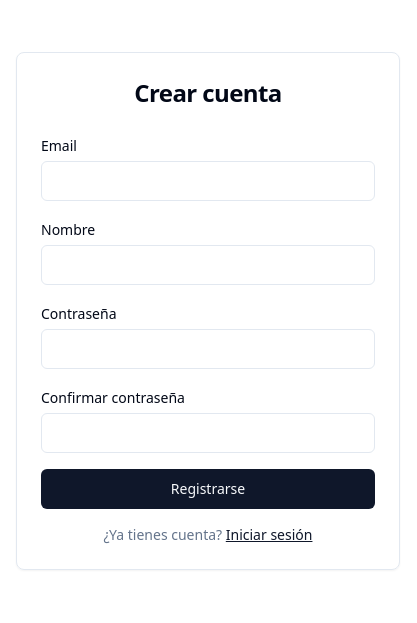
Test: RegisterPage — validación Zod › muestra error cuando el email es inválido
Type "no-email" into the field labelled "Email".
click(208, 181); type("no-email")  # box 41,161 -> 375,201
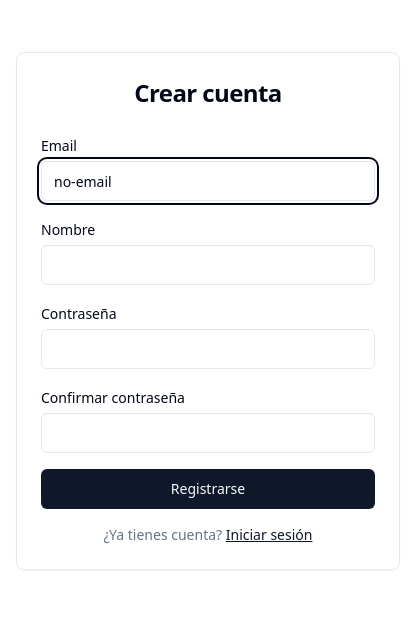
Click the button "Registrarse".
click(208, 489)  # box 41,469 -> 375,509
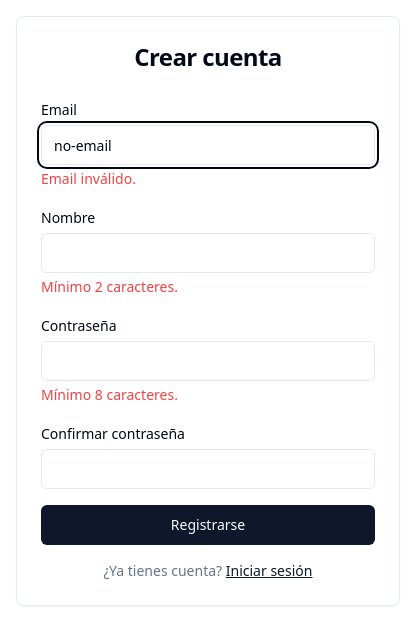
Check: the text "Email inválido." is shown, box 41,169 -> 136,188
